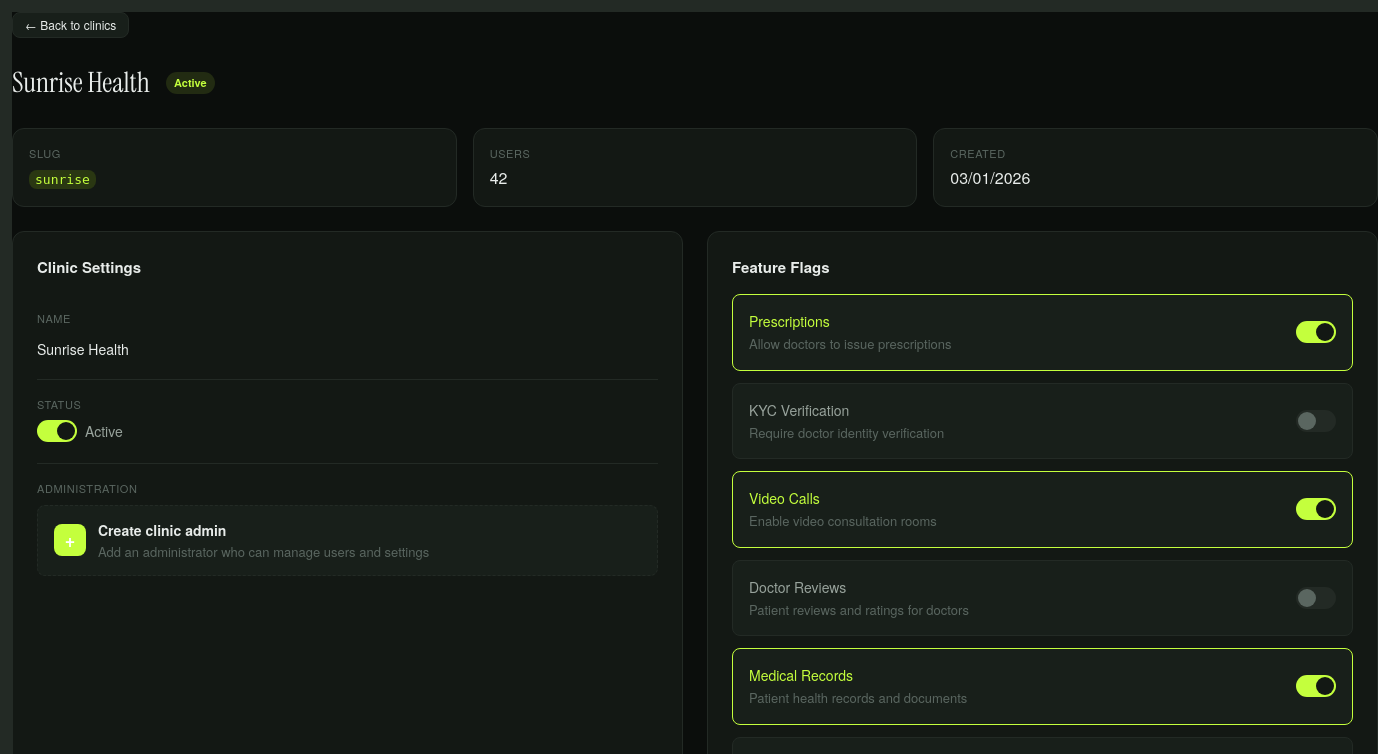
Test case: ClinicDetailPage › name inline editing › on save success exits edit mode
This screenshot has width=1378, height=754.
Click the button "Sunrise Health" at (83,348), box left=37, top=334, right=658, bottom=362
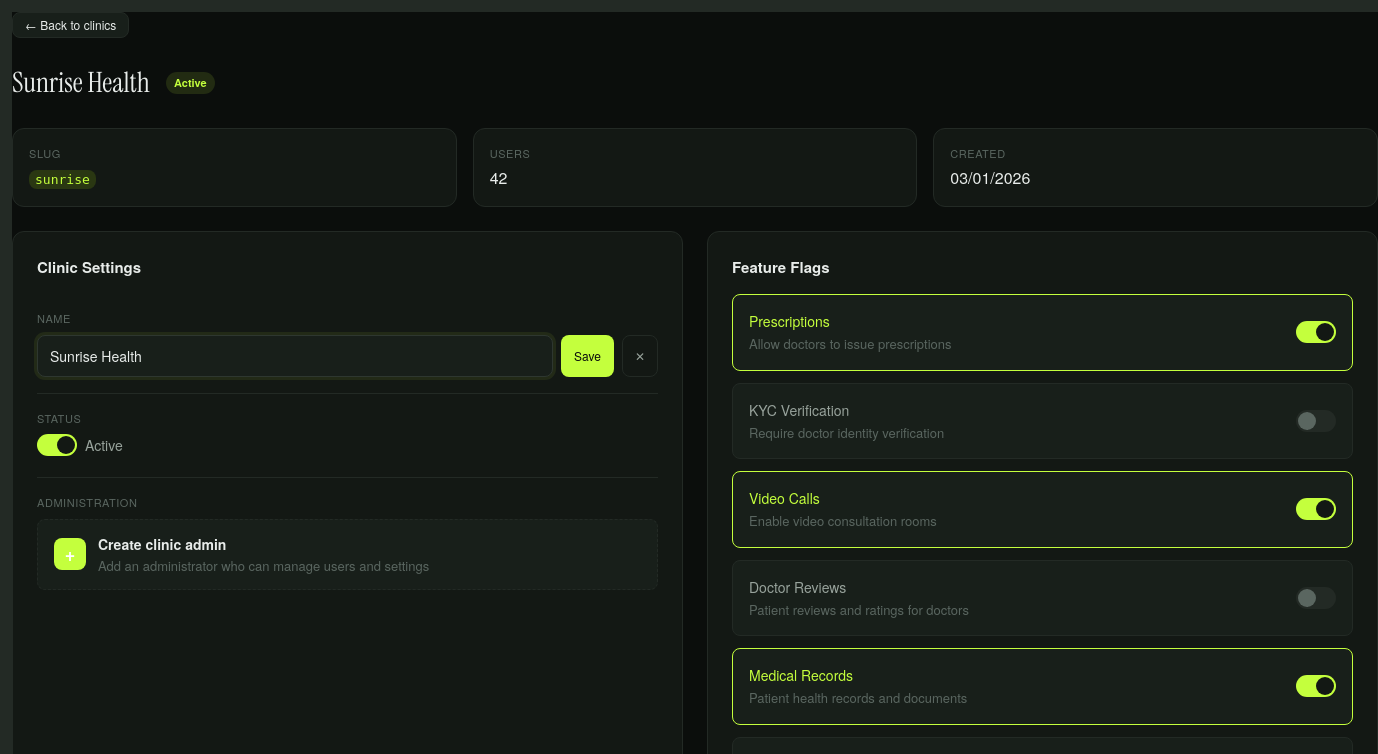
Click the button "Save" at (588,356), box left=561, top=334, right=614, bottom=376
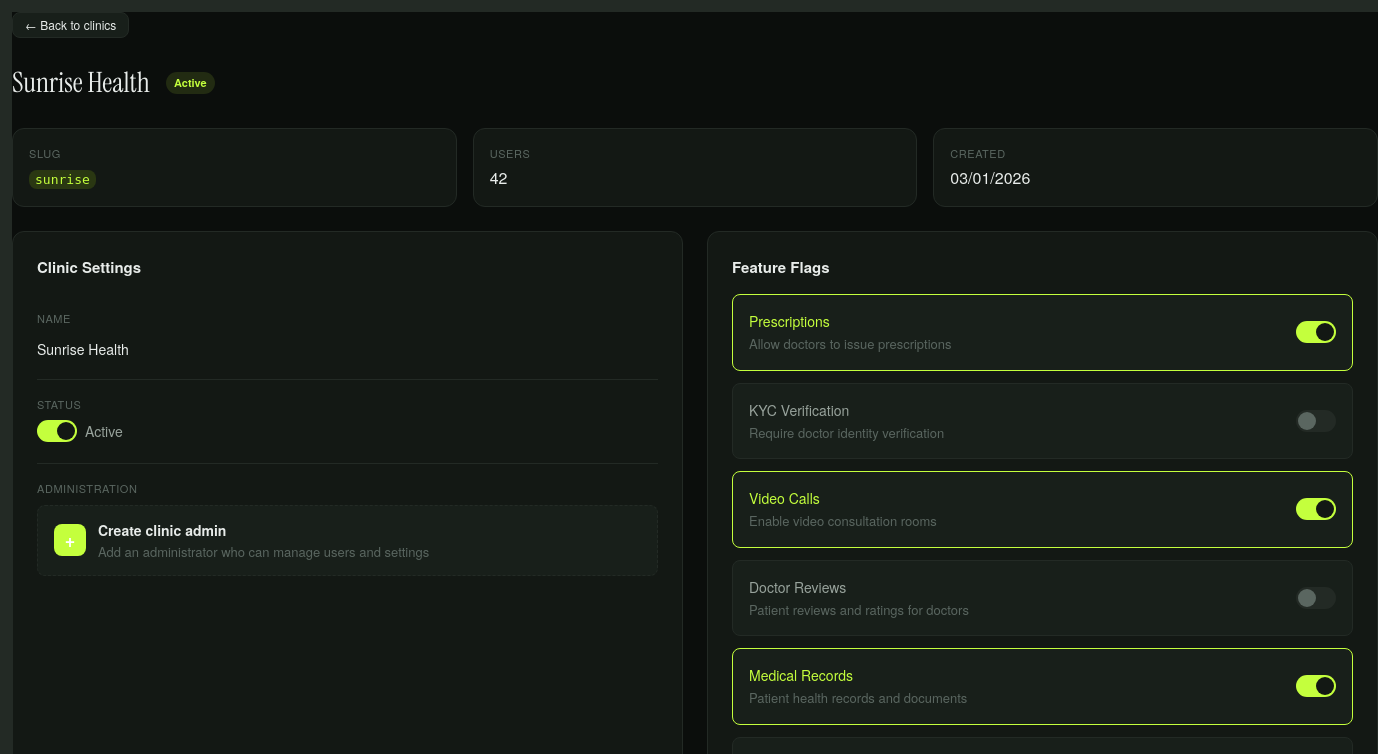
expect the element with class "settings-field-editing" is gone: met
